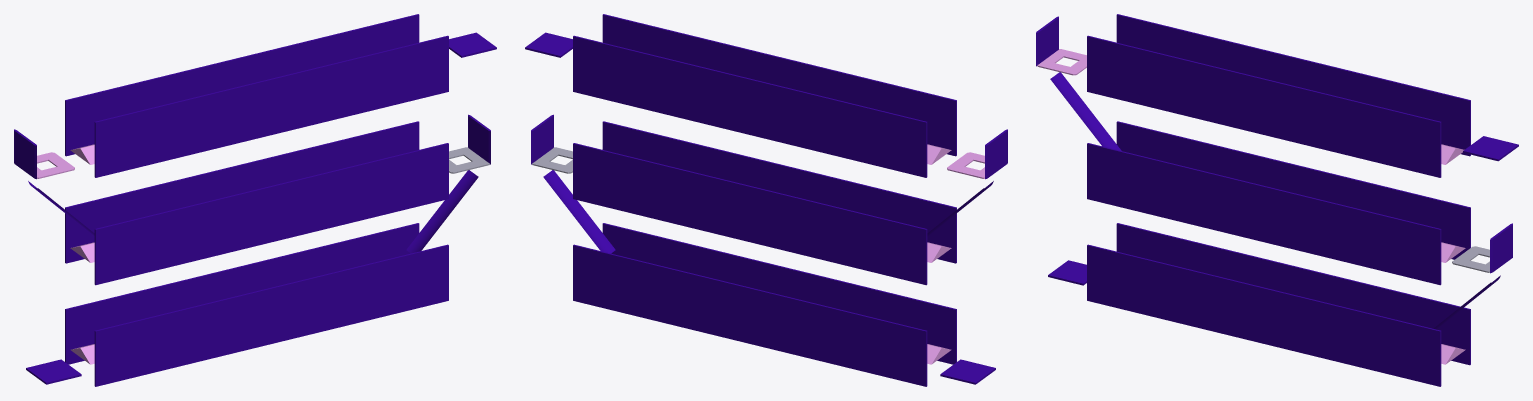
File: punchoff67model.fbx
3 renders of one model, left to right at view 1: azimuth 30°, elevation 25°; view 2: azimuth 150°, elevation 25°; view 3: azimuth 330°, elevation 25°, orthographic.
Visible parts, largest first — view 1: porch_floor_center_48, porch_floor_center_56, porch_floor_center_61, porch_floor_center_57, porch_floor_center_47, porch_floor_center_64, roof_canvas_60, porch_floor_center_49, wall_straight_53, wall_straight_58, porch_floor_center_65, floor_hole_59 (+1 smaller); view 2: porch_floor_center_47, porch_floor_center_57, porch_floor_center_64, porch_floor_center_56, porch_floor_center_48, porch_floor_center_61, roof_canvas_60, porch_floor_center_49, wall_straight_53, wall_straight_58, porch_floor_center_65, floor_hole_59 (+1 smaller); view 3: porch_floor_center_56, porch_floor_center_48, porch_floor_center_61, porch_floor_center_57, porch_floor_center_64, porch_floor_center_47, roof_canvas_52, porch_floor_center_65, wall_straight_58, wall_straight_53, floor_hole_51, porch_floor_center_49 (+1 smaller).
Boxes of the visible parts, left/top/right/bottom form: porch_floor_center_48: left=94, top=143, right=448, bottom=285; porch_floor_center_56: left=94, top=35, right=448, bottom=177; porch_floor_center_61: left=94, top=244, right=448, bottom=386; porch_floor_center_57: left=65, top=14, right=419, bottom=156; porch_floor_center_47: left=65, top=121, right=419, bottom=263; porch_floor_center_64: left=65, top=223, right=419, bottom=364; roof_canvas_60: left=406, top=170, right=478, bottom=253; porch_floor_center_49: left=26, top=359, right=81, bottom=384; wall_straight_53: left=14, top=129, right=36, bottom=179; wall_straight_58: left=468, top=114, right=490, bottom=164; porch_floor_center_65: left=449, top=32, right=496, bottom=57; floor_hole_59: left=449, top=147, right=489, bottom=173; porch_floor_center_47: left=573, top=143, right=927, bottom=285; porch_floor_center_57: left=573, top=35, right=927, bottom=177; porch_floor_center_64: left=573, top=244, right=927, bottom=386; porch_floor_center_56: left=602, top=14, right=956, bottom=156; porch_floor_center_48: left=602, top=121, right=956, bottom=263; porch_floor_center_61: left=602, top=223, right=956, bottom=364; roof_canvas_60: left=543, top=170, right=615, bottom=253; porch_floor_center_49: left=940, top=359, right=995, bottom=384; wall_straight_53: left=985, top=129, right=1007, bottom=179; wall_straight_58: left=531, top=114, right=553, bottom=164; porch_floor_center_65: left=525, top=32, right=572, bottom=57; floor_hole_59: left=532, top=147, right=572, bottom=173; porch_floor_center_56: left=1087, top=35, right=1441, bottom=177; porch_floor_center_48: left=1087, top=143, right=1441, bottom=285; porch_floor_center_61: left=1087, top=244, right=1441, bottom=386; porch_floor_center_57: left=1116, top=14, right=1470, bottom=156; porch_floor_center_64: left=1116, top=223, right=1470, bottom=365; porch_floor_center_47: left=1116, top=121, right=1470, bottom=259; roof_canvas_52: left=1050, top=72, right=1121, bottom=150; porch_floor_center_65: left=1463, top=136, right=1518, bottom=161; wall_straight_58: left=1490, top=223, right=1512, bottom=273; wall_straight_53: left=1036, top=16, right=1058, bottom=66; floor_hole_51: left=1037, top=49, right=1086, bottom=75; porch_floor_center_49: left=1048, top=260, right=1086, bottom=285.
Bounding box in the file's own units: 262 × 143 × 30.
